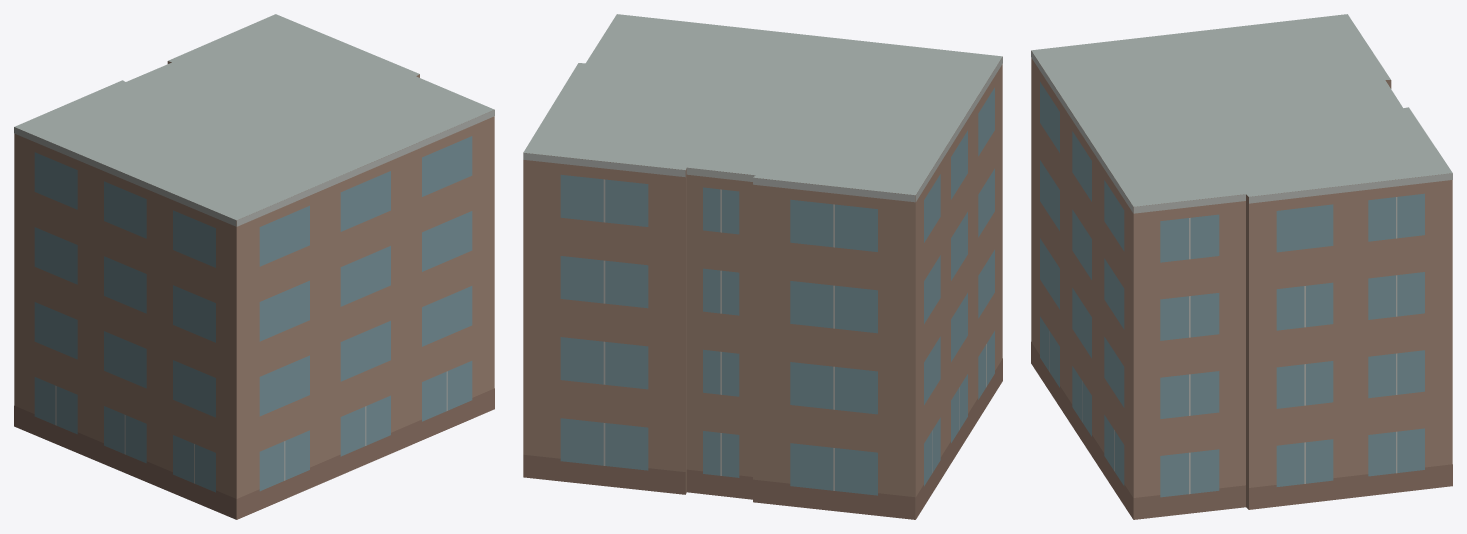
File: survey-upis-32703256.glb
3 renders of one model, left to right at view 1: azimuth 30°, elevation 25°; view 2: azimuth 150°, elevation 25°; view 3: azimuth 270°, elevation 25°, orthographic. The views are drawn at different scales.
Visible parts, largest first — view 1: survey-upis-32703256.tmp; view 2: survey-upis-32703256.tmp; view 3: survey-upis-32703256.tmp.
Boxes of the visible parts, x1=… form: survey-upis-32703256.tmp: x1=14, y1=14, x2=494, y2=519; survey-upis-32703256.tmp: x1=523, y1=14, x2=1002, y2=519; survey-upis-32703256.tmp: x1=1031, y1=14, x2=1452, y2=519.
Bounding box in the file's own units: 14.81 × 11.2 × 13.68.
